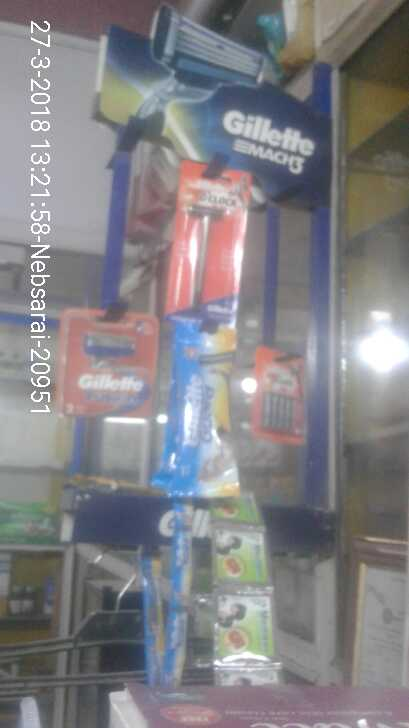gillette: (174, 154, 250, 328), (169, 332, 238, 497), (58, 322, 154, 415), (250, 342, 315, 440)
